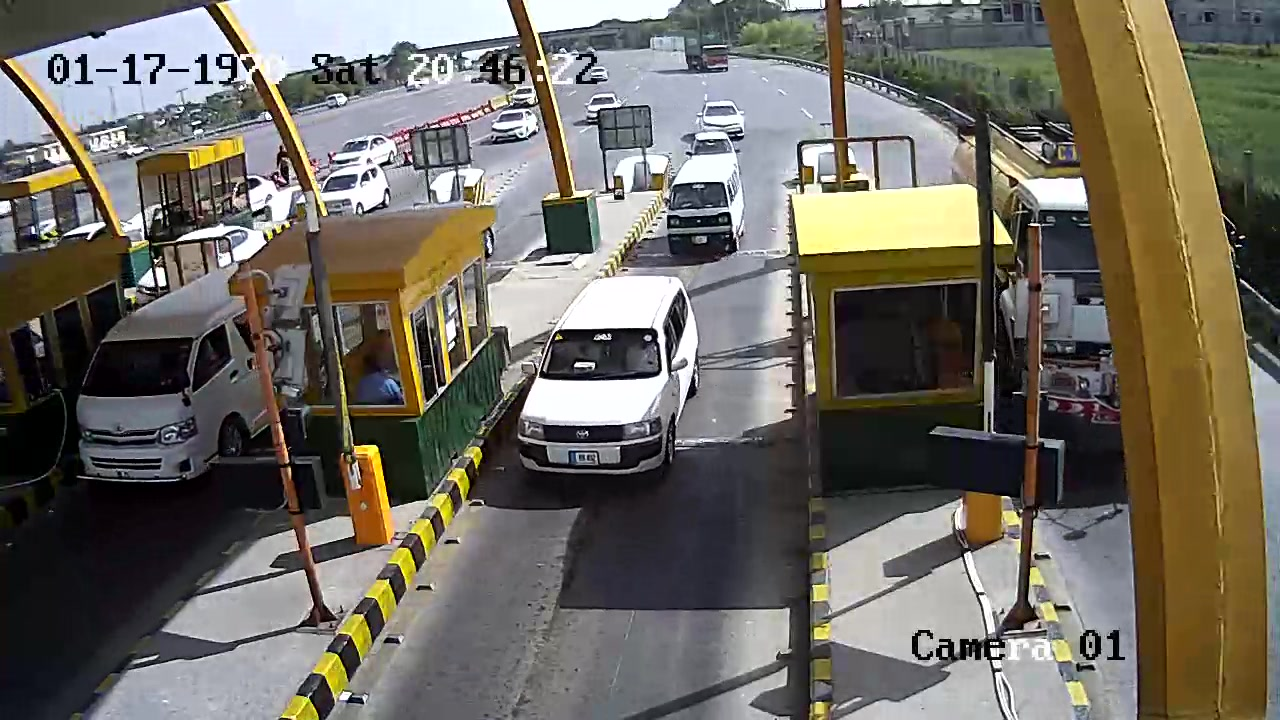F1: (519, 275, 710, 491), (649, 153, 756, 264)
